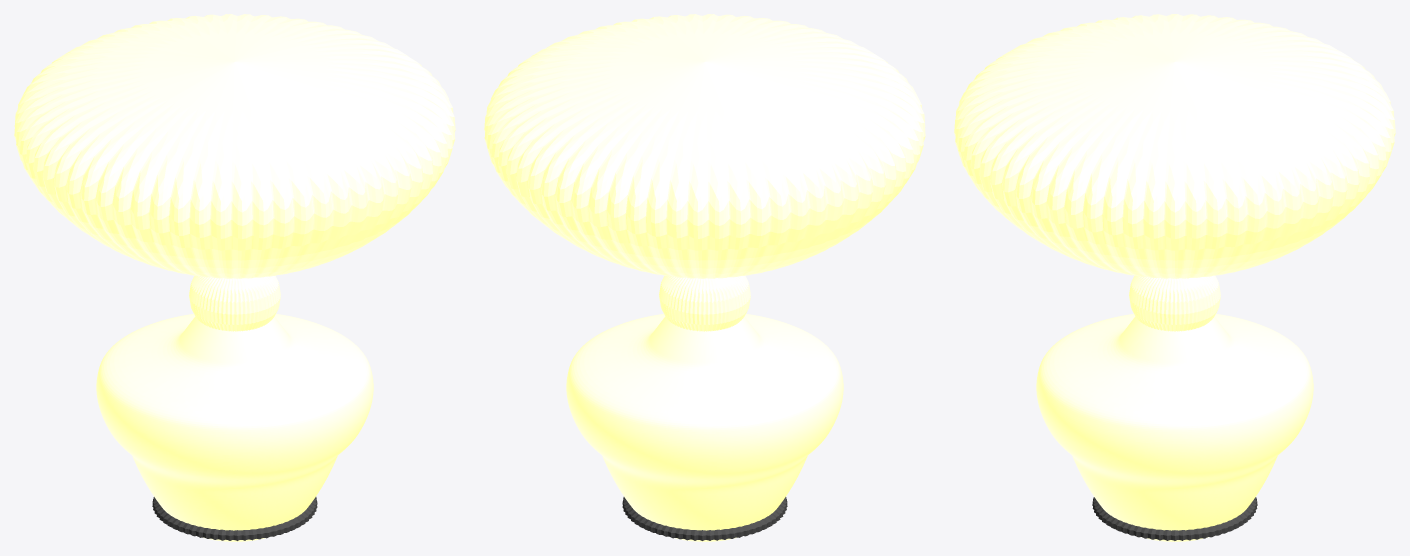
3 renders of one model, left to right at view 1: azimuth 30°, elevation 25°; view 2: azimuth 150°, elevation 25°; view 3: azimuth 270°, elevation 25°, orthographic.
Bounding box in the file's own units: 2.55 × 2.91 × 2.55.
